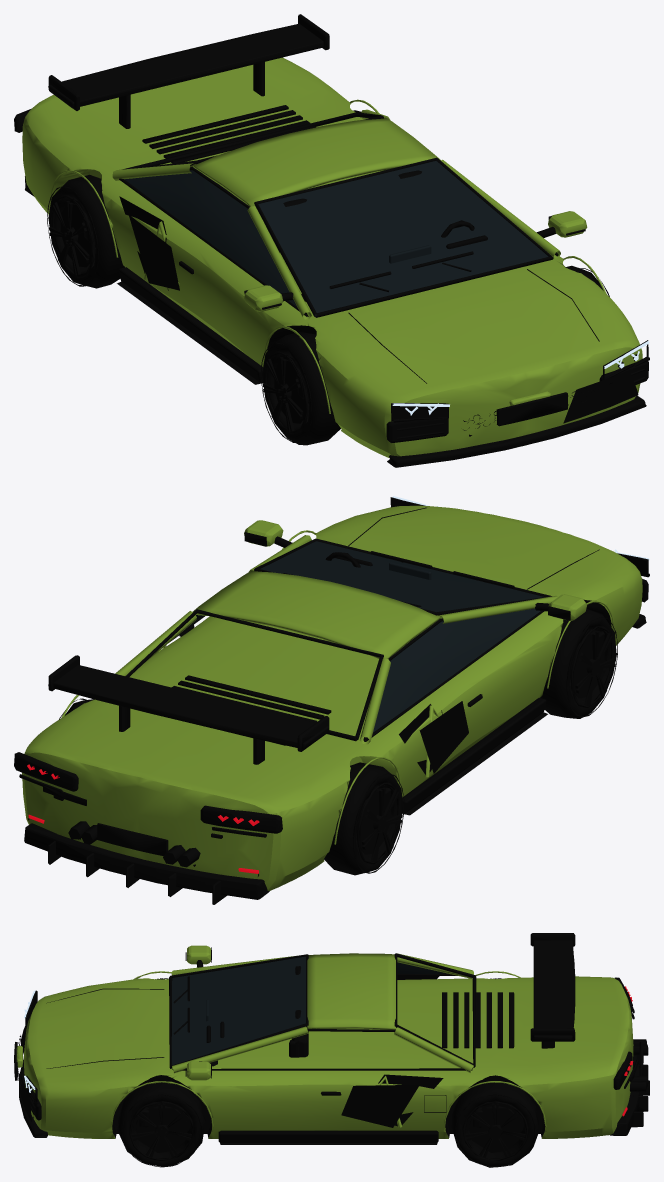
File: lamborghini-mid.glb
The picture shows the model from 3 angles, top to bottom: view 1: azimuth 30°, elevation 25°; view 2: azimuth 150°, elevation 25°; view 3: azimuth 270°, elevation 25°; orthographic projection. The views are drawn at different scales.
Visible parts, largest first — view 1: chassis.001__Automotive clearcoat, chassis.001__Vehicle detail atlas, chassis.001__Solar glass, wheel_FL.001__Vehicle detail atlas, wheel_RL.001__Vehicle detail atlas; view 2: chassis.001__Automotive clearcoat, chassis.001__Vehicle detail atlas, chassis.001__Solar glass, wheel_RL.001__Vehicle detail atlas, wheel_FL.001__Vehicle detail atlas; view 3: chassis.001__Automotive clearcoat, chassis.001__Vehicle detail atlas, chassis.001__Solar glass, wheel_RR.001__Vehicle detail atlas, wheel_FR.001__Vehicle detail atlas.
Boxes of the visible parts, bbox=[...] form: chassis.001__Automotive clearcoat: bbox=[22, 57, 642, 457]; chassis.001__Vehicle detail atlas: bbox=[14, 14, 648, 467]; chassis.001__Solar glass: bbox=[125, 161, 548, 315]; wheel_FL.001__Vehicle detail atlas: bbox=[261, 332, 340, 445]; wheel_RL.001__Vehicle detail atlas: bbox=[47, 174, 124, 288]; chassis.001__Automotive clearcoat: bbox=[22, 505, 642, 890]; chassis.001__Vehicle detail atlas: bbox=[14, 497, 648, 904]; chassis.001__Solar glass: bbox=[189, 541, 543, 740]; wheel_RL.001__Vehicle detail atlas: bbox=[324, 762, 404, 875]; wheel_FL.001__Vehicle detail atlas: bbox=[540, 609, 617, 718]; chassis.001__Automotive clearcoat: bbox=[16, 945, 633, 1138]; chassis.001__Vehicle detail atlas: bbox=[14, 933, 649, 1144]; chassis.001__Solar glass: bbox=[171, 956, 448, 1065]; wheel_RR.001__Vehicle detail atlas: bbox=[451, 1079, 539, 1167]; wheel_FR.001__Vehicle detail atlas: bbox=[118, 1081, 205, 1167].
Bounding box in the file's own units: 2.41 × 1.18 × 5.15.
Materials: 8 (6 with a texture image).
